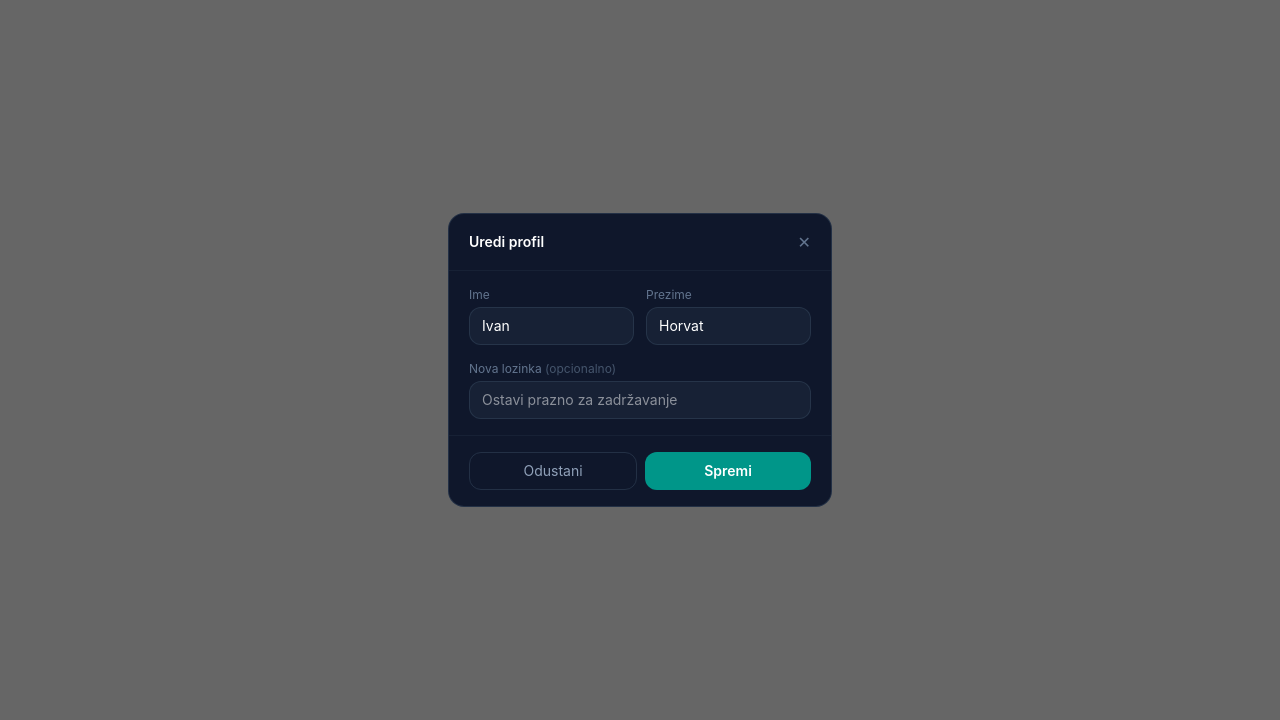
Scenario: ProfileEditModal › prikazuje polje za potvrdu lozinke tek kad se upiše nova lozinka
Type "nova123" into the password field with placeholder "Ostavi prazno za zadržavanje". click: [640, 400]
box: [469,381,811,419]
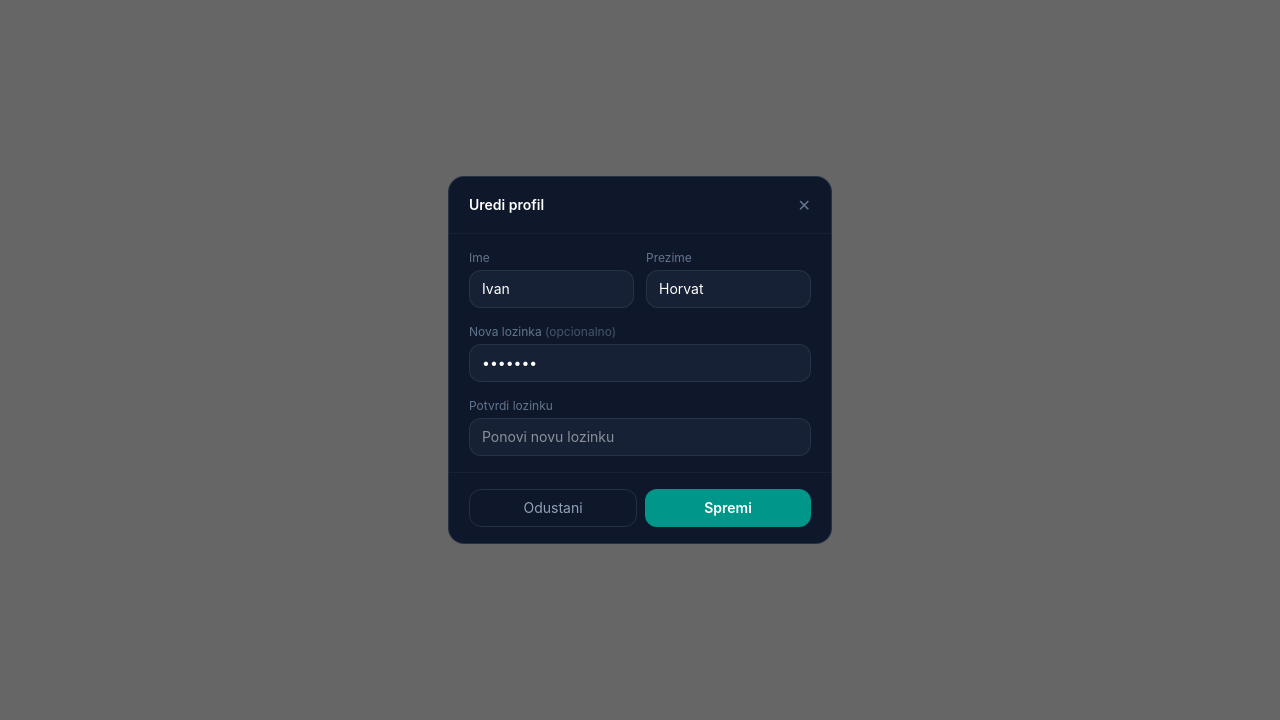
expect the password field with placeholder "Ponovi novu lozinku" is shown: met, box [469,418,811,456]
